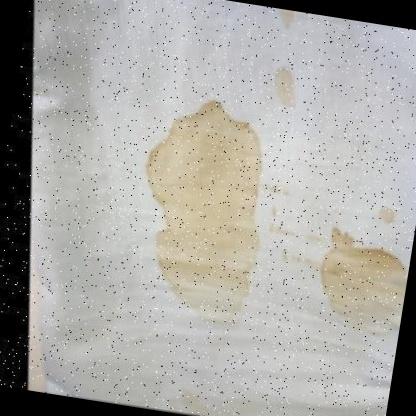coffee: (154, 118, 258, 287), (318, 248, 407, 330)
